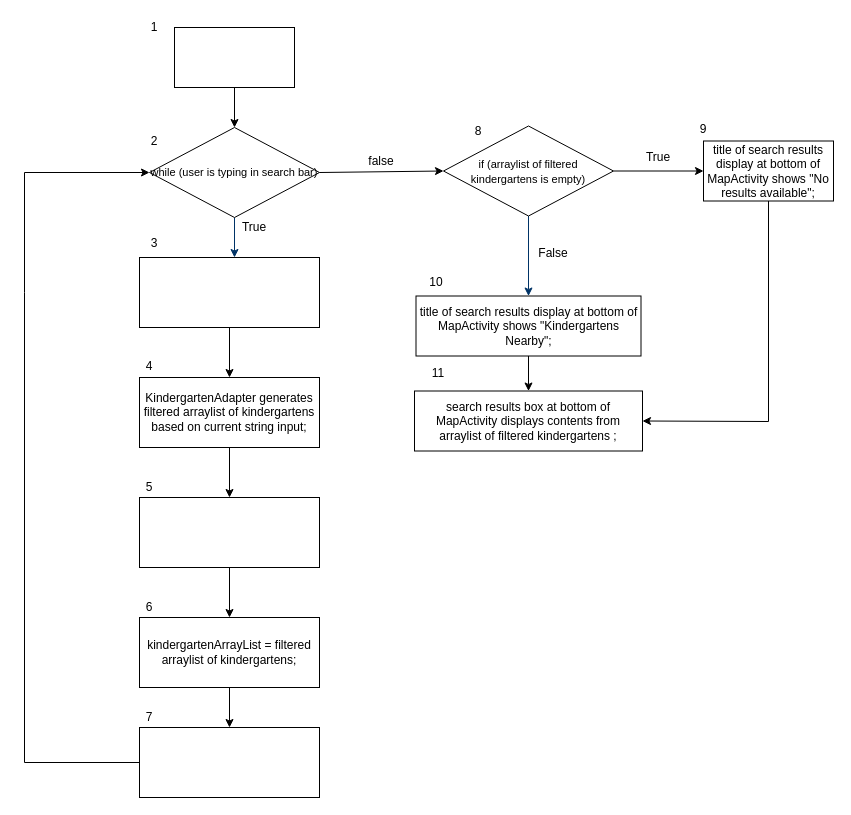
Some shapes in this 851 by 815 pixel diagram are drawn without their labels. Each missing label, with the centre of its shape:
KindergartenAdapter notifies MapActivity of data change;: the point at 229,532
pass current input in search bar to KindergartenAdapter;: the point at 229,292
search results display at bottom of MapActivity updated;: the point at 229,762
User clicks on Search Bar: the point at 234,57
